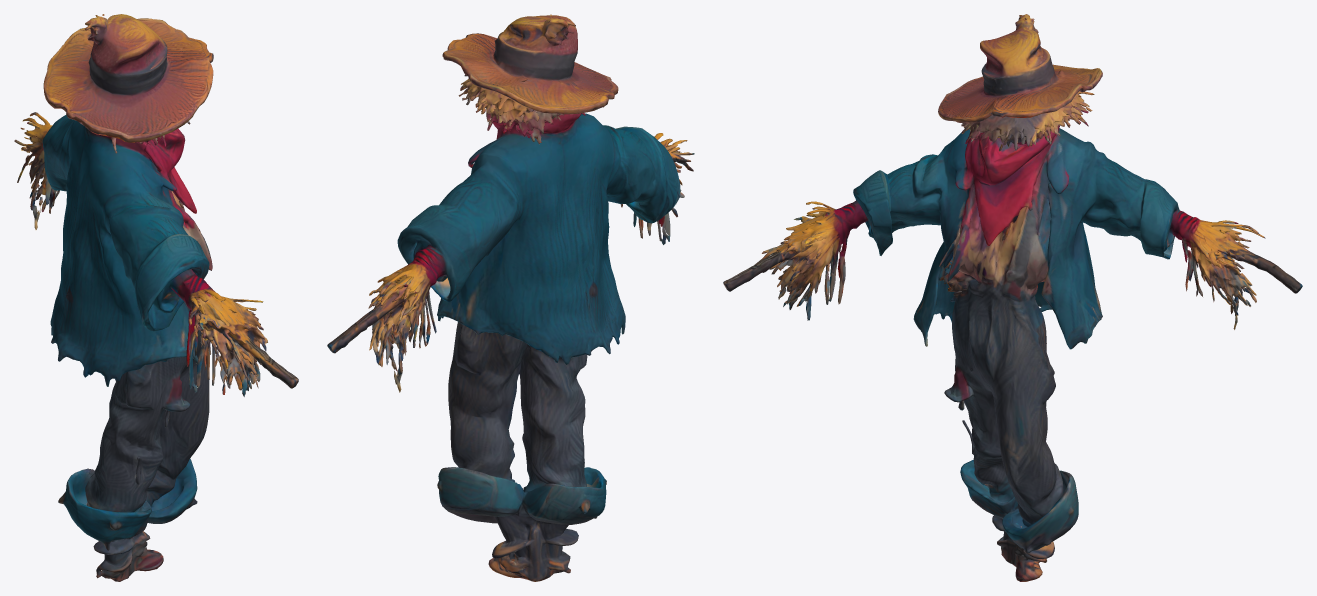
The model's file is deko_outdoor1.glb.
3 views of the same model, side by side, from view 1: azimuth 30°, elevation 25°; view 2: azimuth 150°, elevation 25°; view 3: azimuth 270°, elevation 25° (orthographic). The views are drawn at different scales.
Visible parts, largest first — view 1: tripo_node_0b5cd88a-d9bb-47a7-beed-5e2bde04fd9d; view 2: tripo_node_0b5cd88a-d9bb-47a7-beed-5e2bde04fd9d; view 3: tripo_node_0b5cd88a-d9bb-47a7-beed-5e2bde04fd9d.
Part boxes in pixels (x1,y1,x2,y2): tripo_node_0b5cd88a-d9bb-47a7-beed-5e2bde04fd9d: (14,14,298,581); tripo_node_0b5cd88a-d9bb-47a7-beed-5e2bde04fd9d: (327,14,694,581); tripo_node_0b5cd88a-d9bb-47a7-beed-5e2bde04fd9d: (723,14,1302,581).
Size of the model in its own units: 0.2861 by 1 by 0.9697.
Materials: 1 (1 with a texture image).
